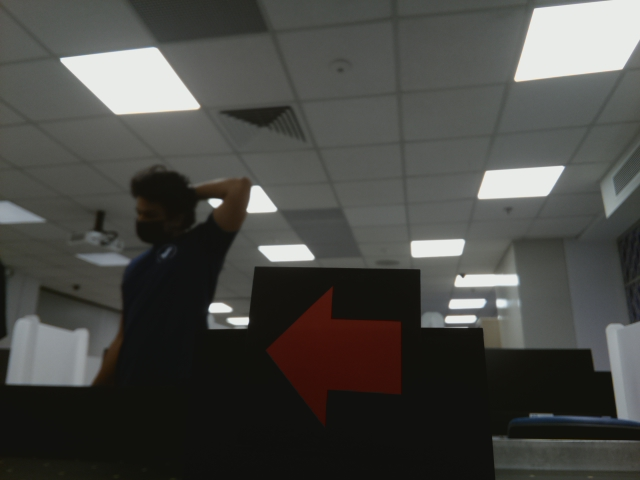left: (262, 281, 418, 431)
